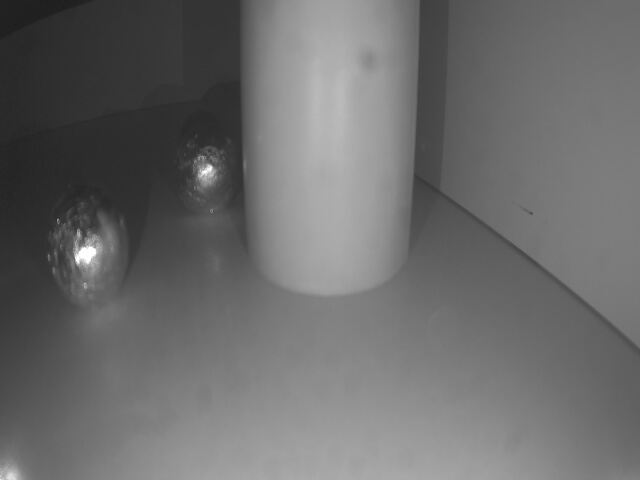Live: (44, 186, 134, 311), (167, 115, 252, 221)
